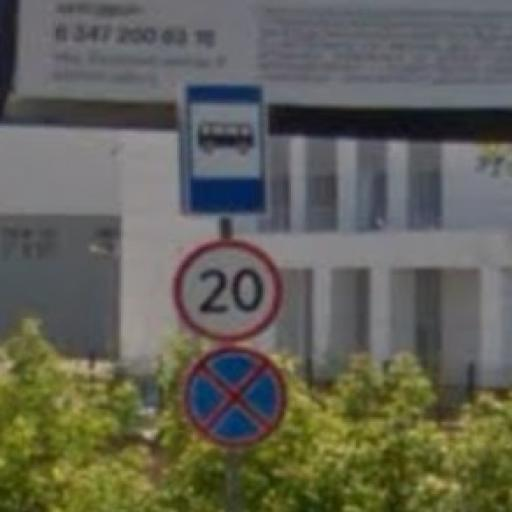traffic_sign: (182, 83, 271, 219), (182, 346, 289, 451), (175, 240, 283, 343)
